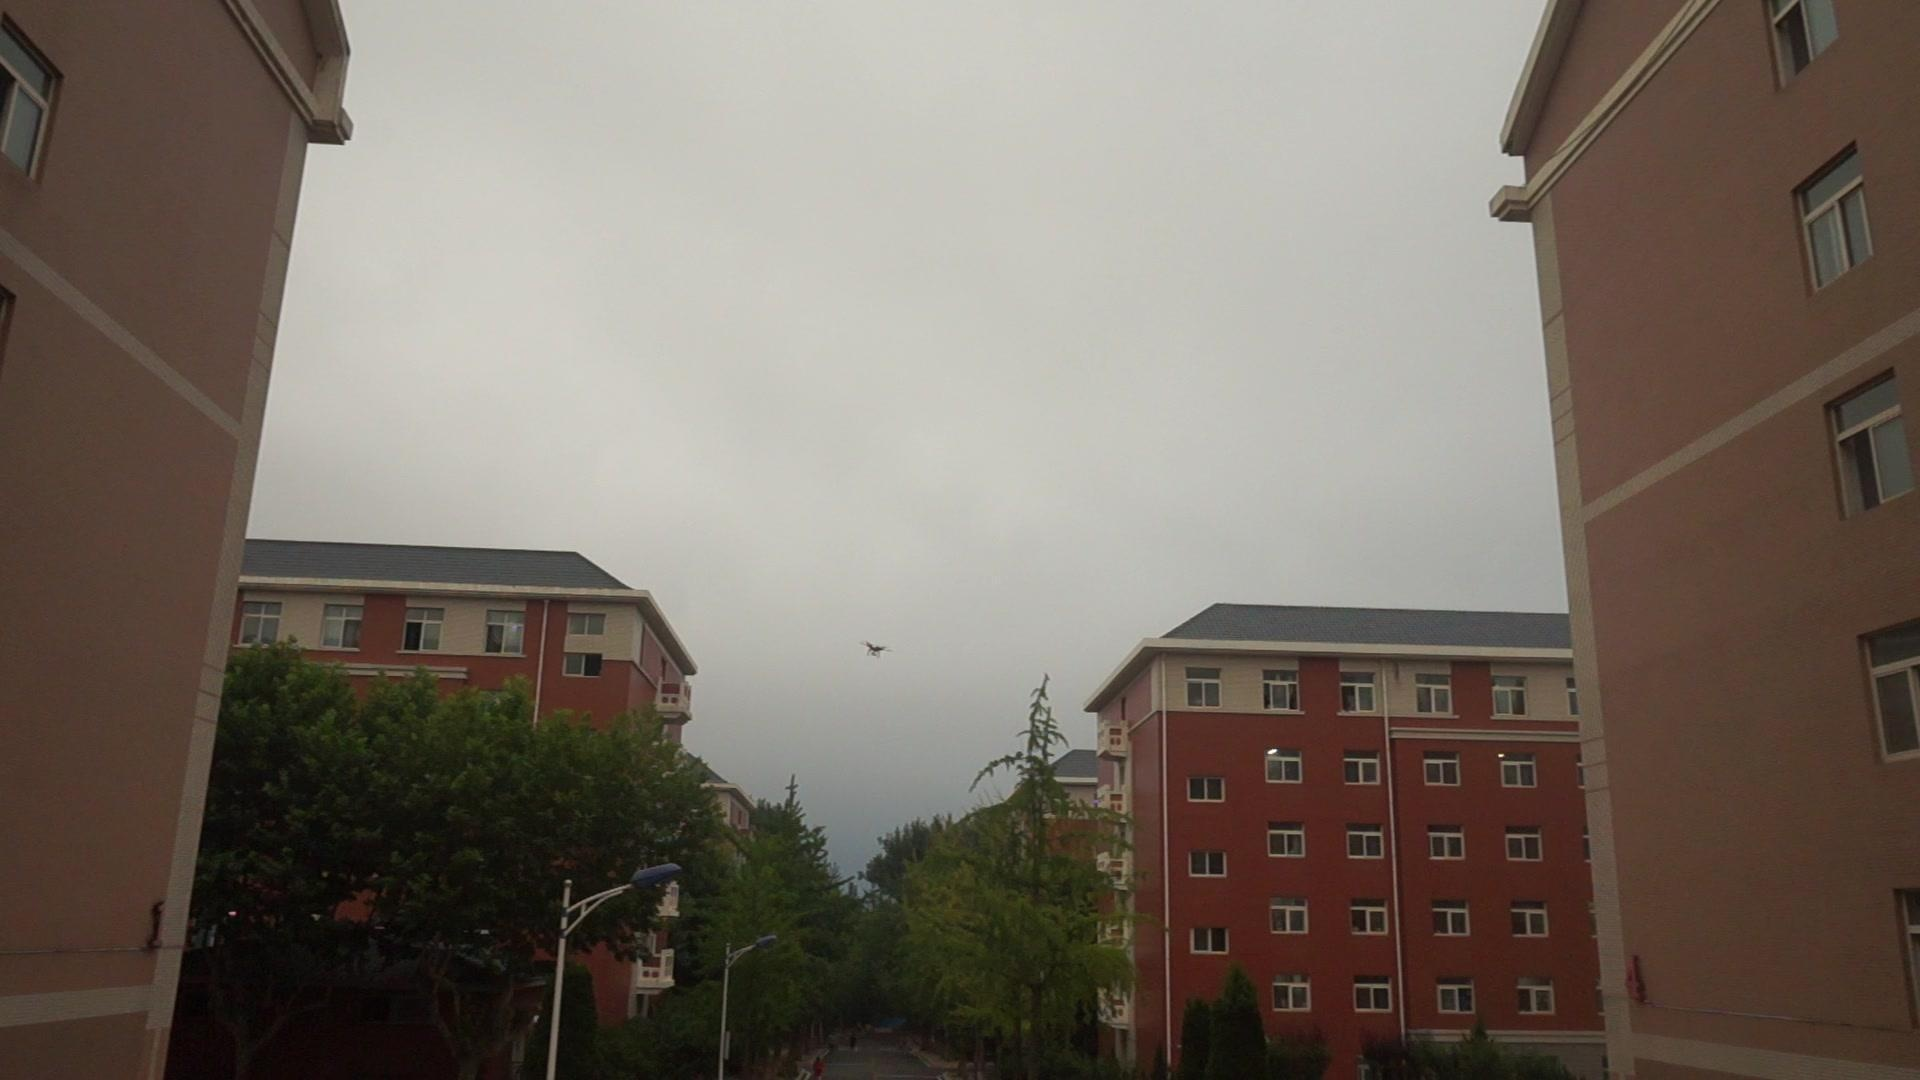UAV: (861, 642, 894, 659)
